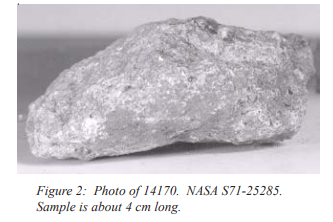Breccia: (37, 22, 325, 157)
